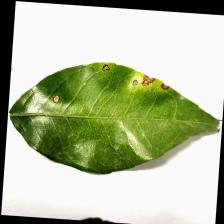canker: (50, 58, 178, 132)
